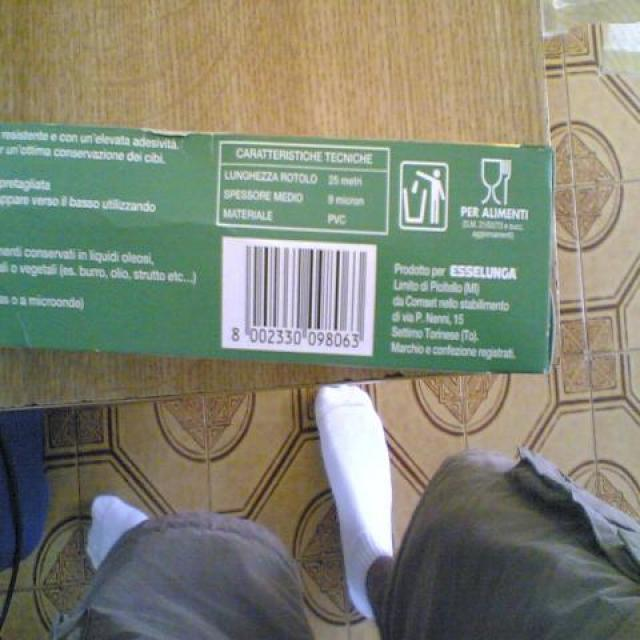Barcode: (222, 235, 378, 360)
